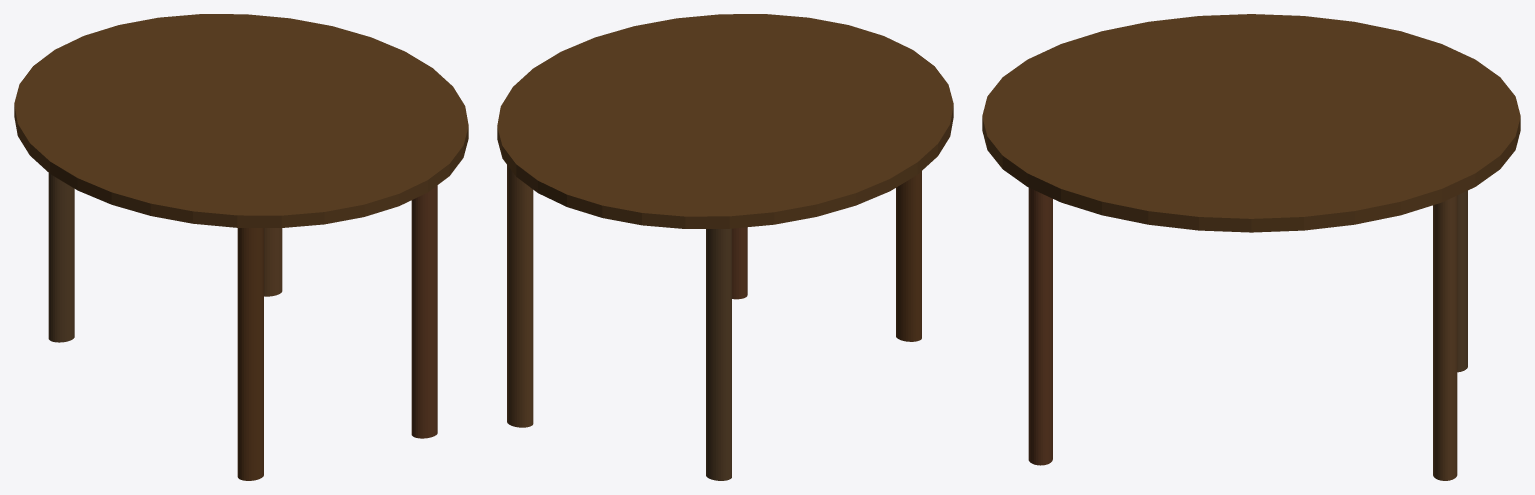
The model's file is stolbabcia.glb.
The picture shows the model from 3 angles, left to right: view 1: azimuth 30°, elevation 25°; view 2: azimuth 150°, elevation 25°; view 3: azimuth 270°, elevation 25°; orthographic projection. The views are drawn at different scales.
Visible parts, largest first — view 1: Cylinder, Cylinder.001, Cylinder.002, Cylinder.003, Cylinder.004; view 2: Cylinder, Cylinder.004, Cylinder.003, Cylinder.001, Cylinder.002; view 3: Cylinder, Cylinder.004, Cylinder.002, Cylinder.003.
Part boxes in pixels (left/top/right/bottom): Cylinder: left=14, top=14, right=468, bottom=227; Cylinder.001: left=237, top=228, right=263, bottom=480; Cylinder.002: left=411, top=185, right=437, bottom=438; Cylinder.003: left=48, top=173, right=74, bottom=342; Cylinder.004: left=264, top=228, right=282, bottom=296; Cylinder: left=497, top=14, right=953, bottom=228; Cylinder.004: left=507, top=165, right=533, bottom=427; Cylinder.003: left=706, top=228, right=731, bottom=480; Cylinder.001: left=896, top=171, right=921, bottom=341; Cylinder.002: left=732, top=227, right=747, bottom=299; Cylinder: left=982, top=14, right=1520, bottom=232; Cylinder.004: left=1433, top=195, right=1457, bottom=480; Cylinder.002: left=1028, top=188, right=1052, bottom=465; Cylinder.003: left=1457, top=190, right=1467, bottom=372.
Bounding box in the file's own units: 6.35 × 4.27 × 7.05.
Materials: 5 (5 with a texture image).
